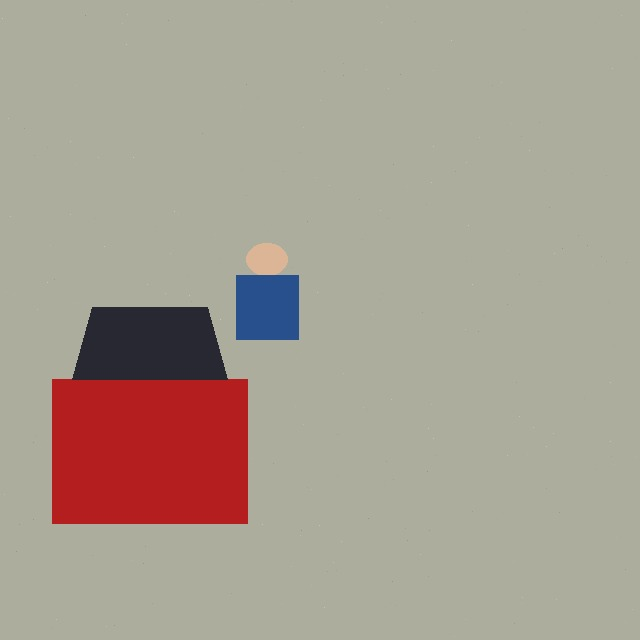person: (205, 243, 329, 339)
vehicle: (52, 307, 247, 523)
